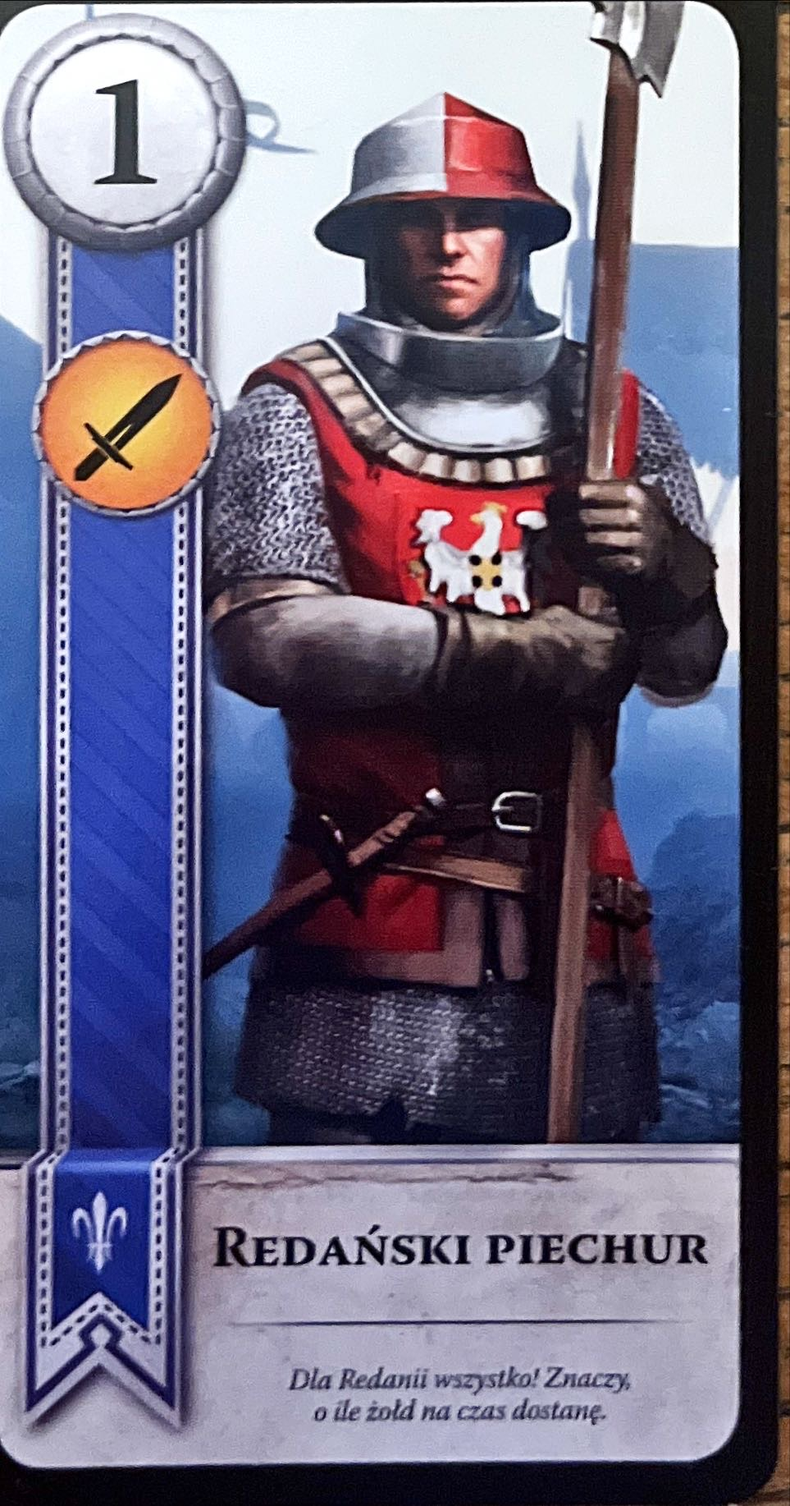1: (4, 11, 250, 253)
miecz: (32, 330, 223, 519)
